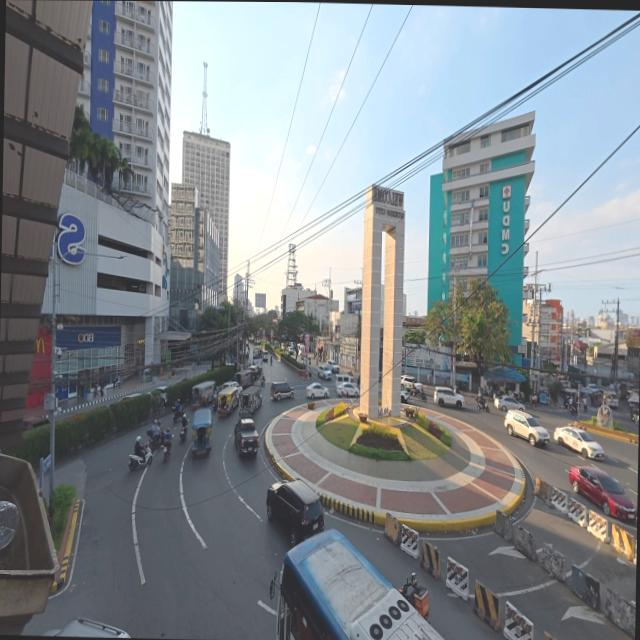Jeepneys: (191, 408, 211, 457), (216, 386, 238, 417), (239, 386, 260, 417), (191, 381, 214, 405), (234, 368, 252, 389)
bus: (276, 530, 442, 639), (251, 345, 261, 366)
car: (265, 480, 323, 545), (569, 466, 636, 521), (553, 426, 603, 458), (41, 619, 129, 637), (504, 411, 549, 446), (233, 418, 258, 455), (433, 387, 463, 407), (493, 397, 523, 412), (270, 382, 293, 400), (218, 381, 241, 397), (23, 416, 49, 430), (305, 382, 327, 398), (400, 376, 422, 390), (336, 383, 358, 397), (119, 392, 141, 402), (400, 375, 415, 389), (318, 364, 331, 380), (326, 360, 339, 374), (400, 389, 408, 403), (586, 384, 598, 392), (262, 350, 268, 362), (634, 415, 638, 426)
motorcycle: (398, 575, 428, 621), (128, 446, 151, 470), (163, 435, 172, 460), (147, 438, 161, 453), (475, 398, 488, 412), (172, 407, 182, 423), (179, 426, 186, 441), (568, 404, 576, 415), (419, 390, 426, 401), (259, 376, 264, 387)
vans: (332, 374, 350, 388), (603, 393, 617, 409)
